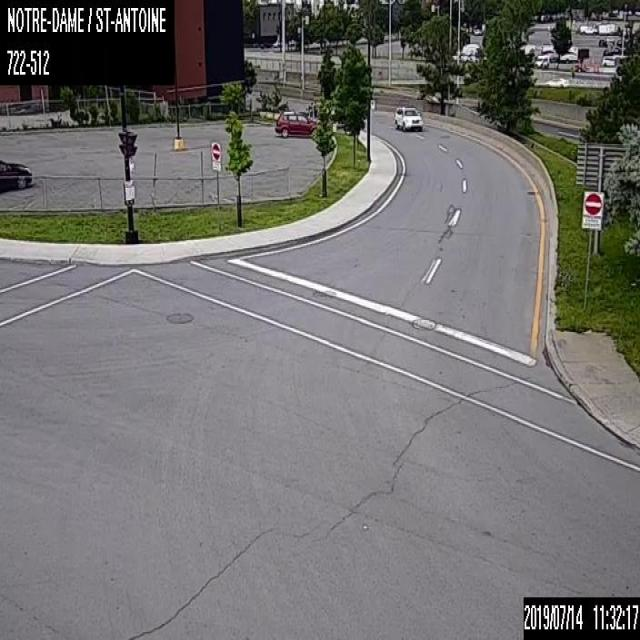vehicle: (274, 109, 322, 137), (0, 156, 31, 192), (393, 104, 422, 131)
